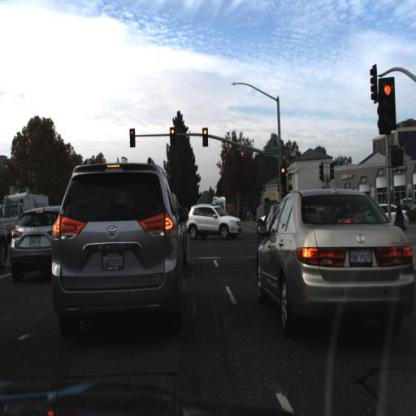car: (255, 189, 412, 342), (54, 161, 187, 330), (16, 205, 69, 277), (187, 192, 245, 248), (255, 203, 274, 252), (376, 205, 410, 230), (207, 195, 231, 229)
pedestrian: (396, 205, 406, 233)
trafficLight: (129, 125, 137, 151)
trafficLight-Red: (376, 74, 400, 143), (201, 125, 211, 151), (168, 126, 178, 148), (170, 130, 178, 153), (280, 165, 288, 187), (202, 128, 210, 147)
truck: (1, 185, 57, 236), (1, 189, 52, 237)
